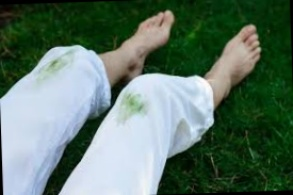earth: (123, 94, 143, 114), (48, 56, 66, 73)
